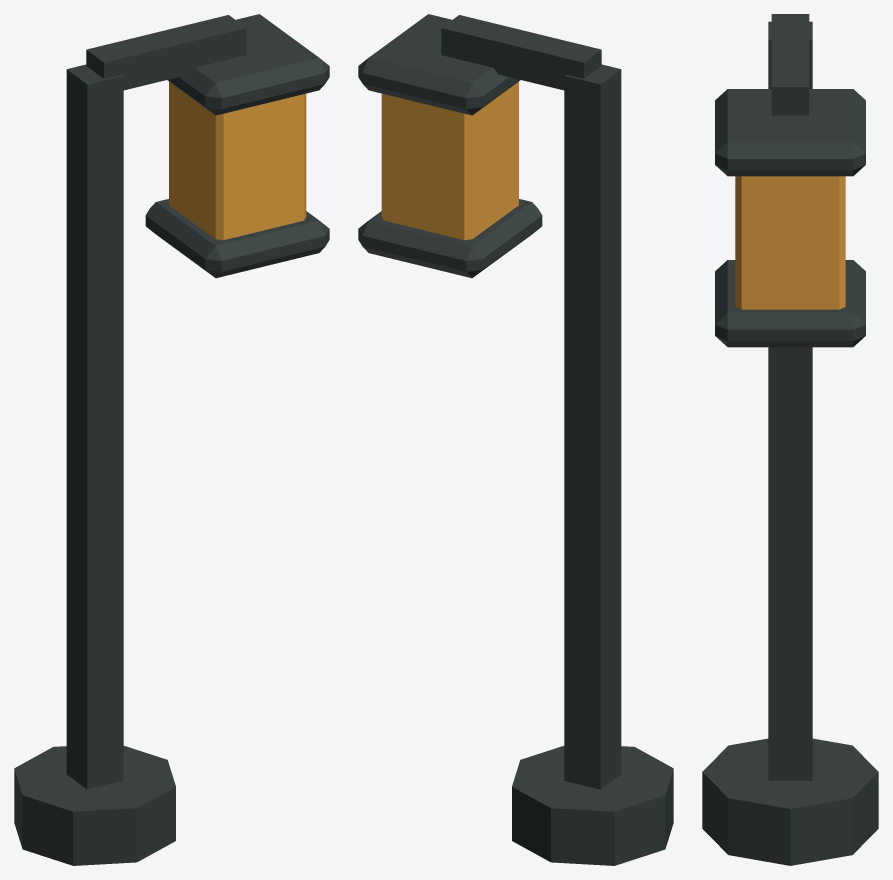
Rendered from lamp_post.glb.
3 renders of one model, left to right at view 1: azimuth 30°, elevation 25°; view 2: azimuth 150°, elevation 25°; view 3: azimuth 270°, elevation 25°, orthographic. The views are drawn at different scales.
Visible parts, largest first — view 1: lamp_post; view 2: lamp_post; view 3: lamp_post.
Boxes of the visible parts, box(x1,y1,x2,y2) form: lamp_post: box(14, 14, 329, 865); lamp_post: box(358, 14, 673, 865); lamp_post: box(702, 14, 878, 865).
Bounding box in the file's own units: 1.07 × 2.86 × 0.56.
